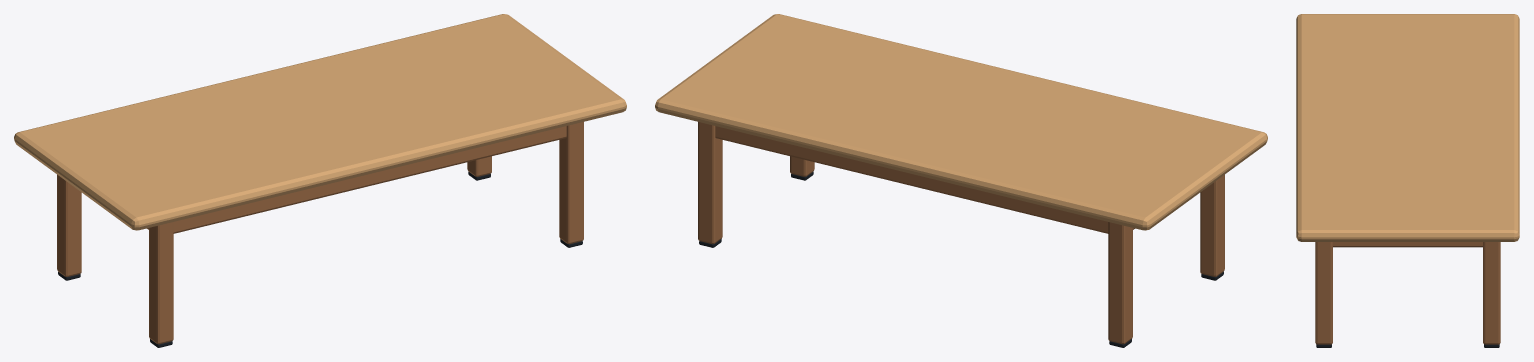
Rendered from dining-table.glb.
3 views of the same model, side by side, from view 1: azimuth 30°, elevation 25°; view 2: azimuth 150°, elevation 25°; view 3: azimuth 270°, elevation 25° (orthographic). The views are drawn at different scales.
Parts seen in each view (by area): view 1: diningTable · Natural oak, diningTable · Warm oak; view 2: diningTable · Natural oak, diningTable · Warm oak; view 3: diningTable · Natural oak, diningTable · Warm oak.
Part boxes in pixels (x1=…): diningTable · Natural oak: x1=14, y1=14, x2=626, y2=230; diningTable · Warm oak: x1=57, y1=122, x2=583, y2=344; diningTable · Natural oak: x1=655, y1=14, x2=1267, y2=230; diningTable · Warm oak: x1=698, y1=122, x2=1224, y2=344; diningTable · Natural oak: x1=1296, y1=14, x2=1519, y2=241; diningTable · Warm oak: x1=1315, y1=242, x2=1500, y2=344.
Size of the model in its own units: 2.8 by 0.78 by 1.2.
